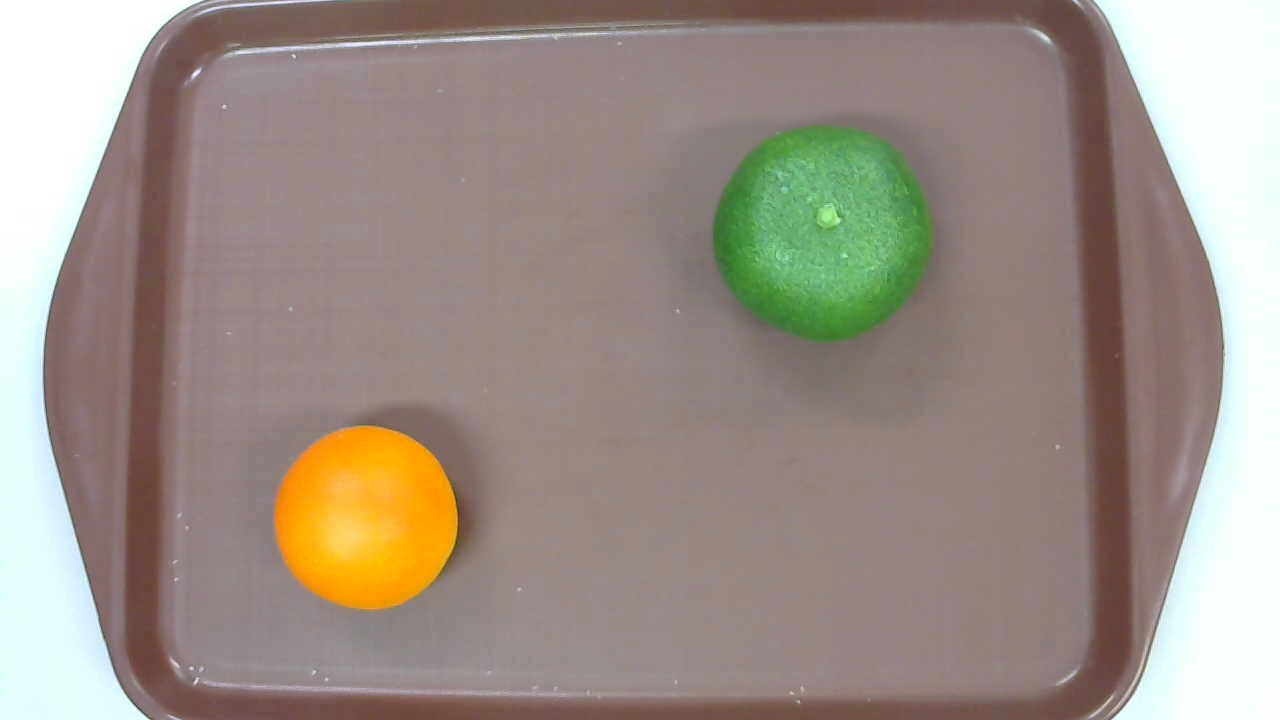bun: (273, 425, 459, 608)
green orange: (715, 127, 930, 341)
